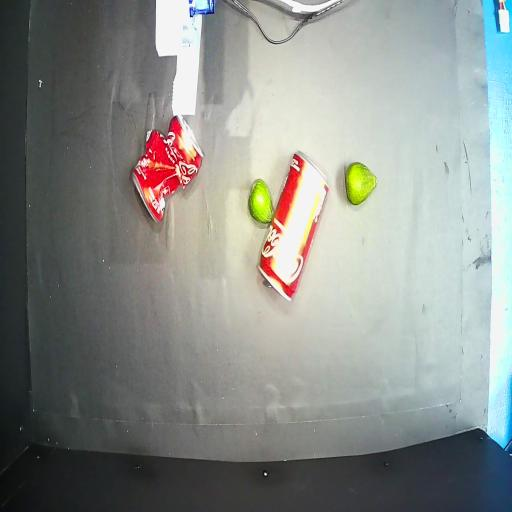higo: (345, 163, 377, 205), (248, 179, 274, 224)
lata: (259, 152, 328, 300)
lata_defectuoso: (132, 115, 203, 222)
